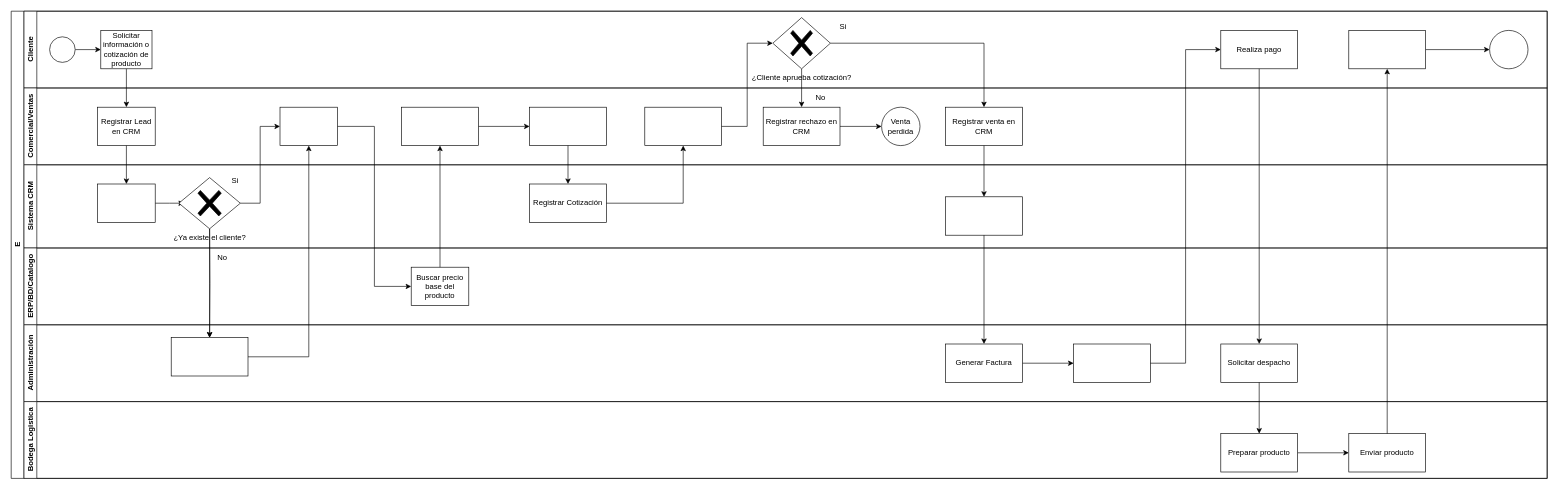
Some shapes in this 1558 by 490 pixel diagram are drawn without their labels. The shapes that lost their labels are listed below. From the top down, each one's centre as x and y in pixels, then its label:
[1387,49]: Recibir producto
[1508,49]: Venta completada
[308,126]: Buscar producto en catalogo PDF
[439,126]: Calcular margen, iva y precio final
[567,126]: Elaborar cotización en CRM
[683,126]: Enviar cotización al cliente
[126,202]: Almacenar información del cliente
[983,215]: Registrar orden de venta
[209,356]: Crear Cliente en ERP
[1111,362]: Enviar Factura a cliente
